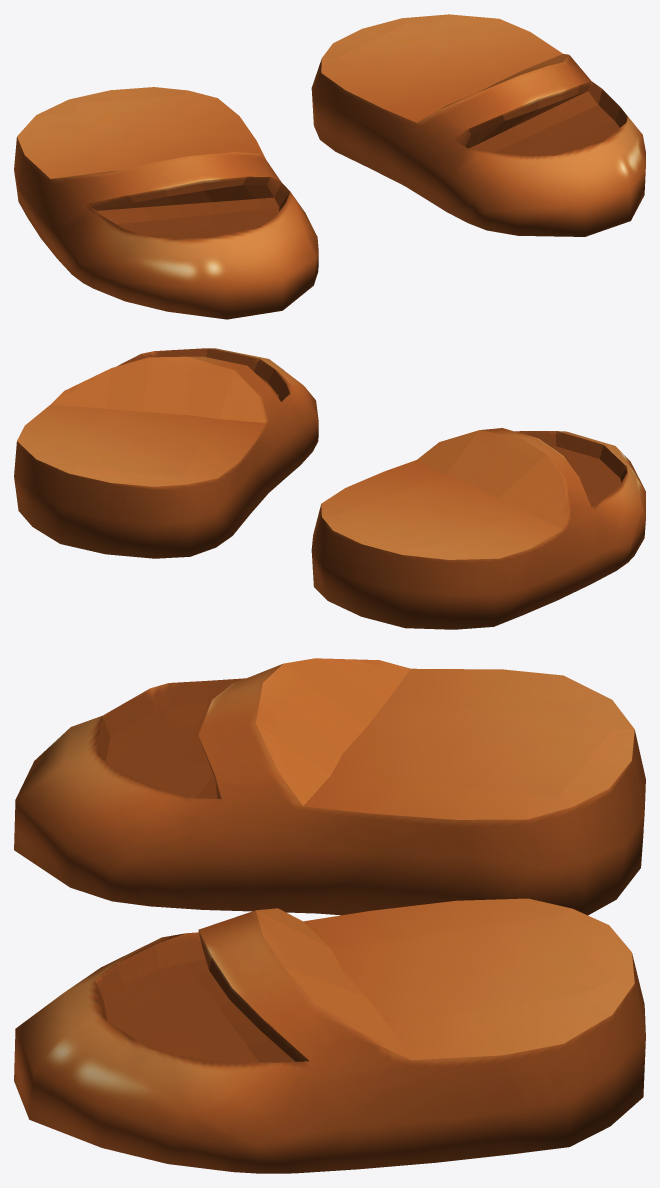
Rendered from 女生1级服装002.FBX.
3 renders of one model, top to bottom at view 1: azimuth 30°, elevation 25°; view 2: azimuth 150°, elevation 25°; view 3: azimuth 270°, elevation 25°, orthographic. The views are drawn at different scales.
Parts seen in each view (by area): view 1: 女生1级服装002; view 2: 女生1级服装002; view 3: 女生1级服装002.
Boxes of the visible parts, left/top/right/bottom form: 女生1级服装002: left=14, top=14, right=645, bottom=319; 女生1级服装002: left=14, top=348, right=645, bottom=629; 女生1级服装002: left=14, top=658, right=645, bottom=1173.
Size of the model in its own units: 12.89 by 2.24 by 8.19.
